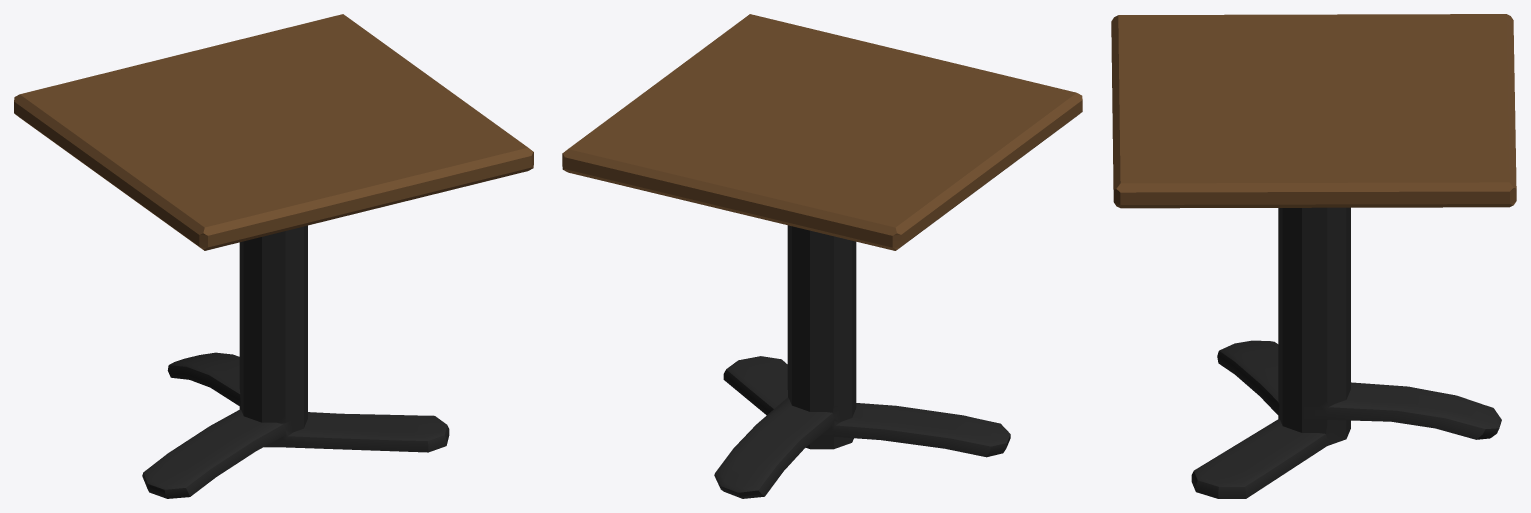
File: bg_table_square.fbx
The picture shows the model from 3 angles, left to right: view 1: azimuth 30°, elevation 25°; view 2: azimuth 150°, elevation 25°; view 3: azimuth 270°, elevation 25°; orthographic projection. The views are drawn at different scales.
Visible parts, largest first — view 1: SquareTable; view 2: SquareTable; view 3: SquareTable.
Boxes of the visible parts, x1=… form: SquareTable: x1=14, y1=14, x2=533, y2=498; SquareTable: x1=562, y1=14, x2=1082, y2=498; SquareTable: x1=1111, y1=14, x2=1516, y2=498.
Size of the model in its own units: 389 by 346 by 380.
